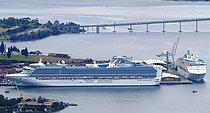Ship: (7, 60, 161, 90), (171, 47, 207, 84)
